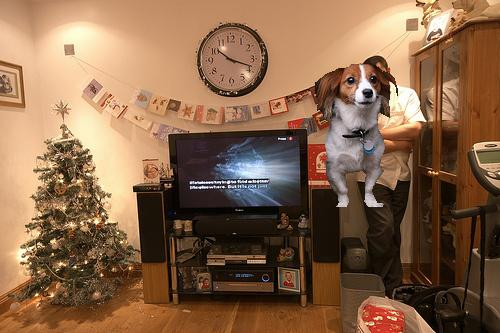tampered: (316, 65, 398, 207)
